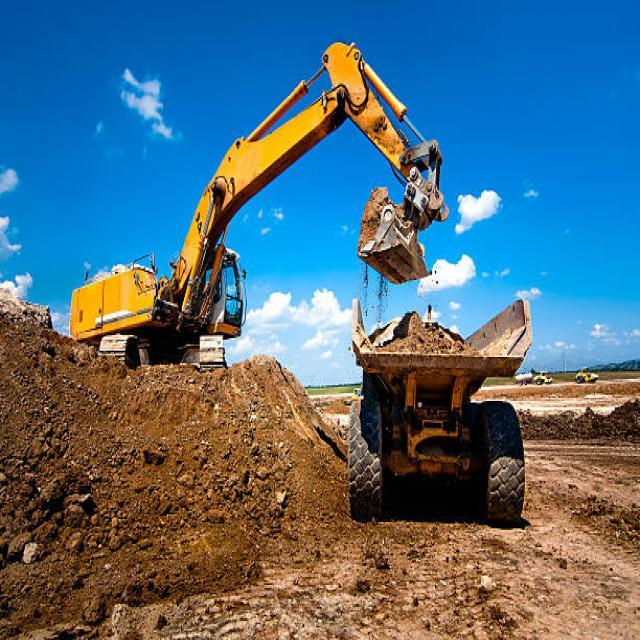C_E: (67, 35, 450, 361)
